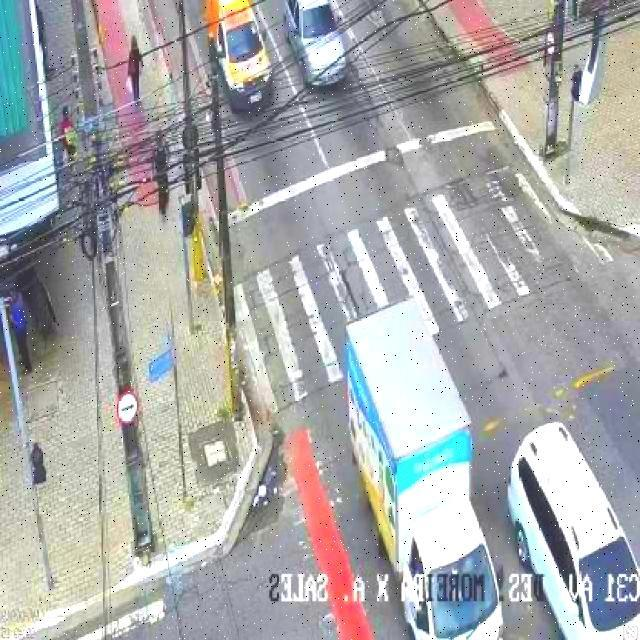Car: (512, 380, 640, 640), (287, 0, 366, 100)
Truck: (345, 285, 515, 640)
Van: (192, 0, 278, 119)
